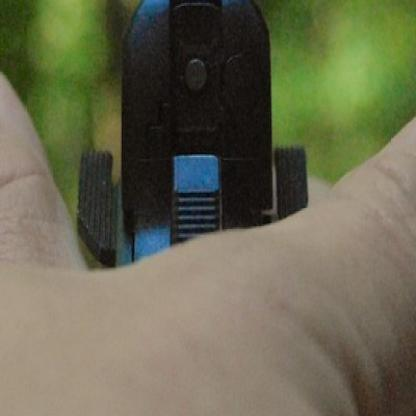gun: (71, 0, 336, 289)
